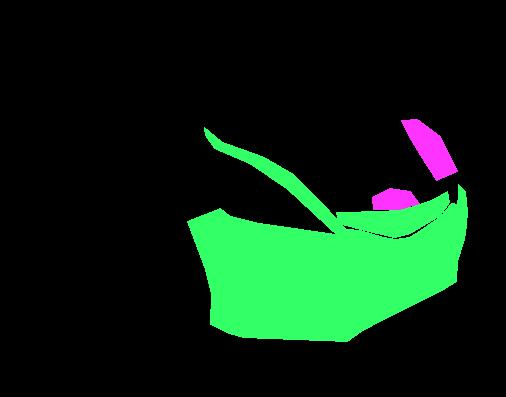Broken part: (187, 184, 467, 341), (204, 127, 349, 237), (336, 191, 449, 237)
Dent: (401, 119, 457, 180), (372, 188, 419, 209)
